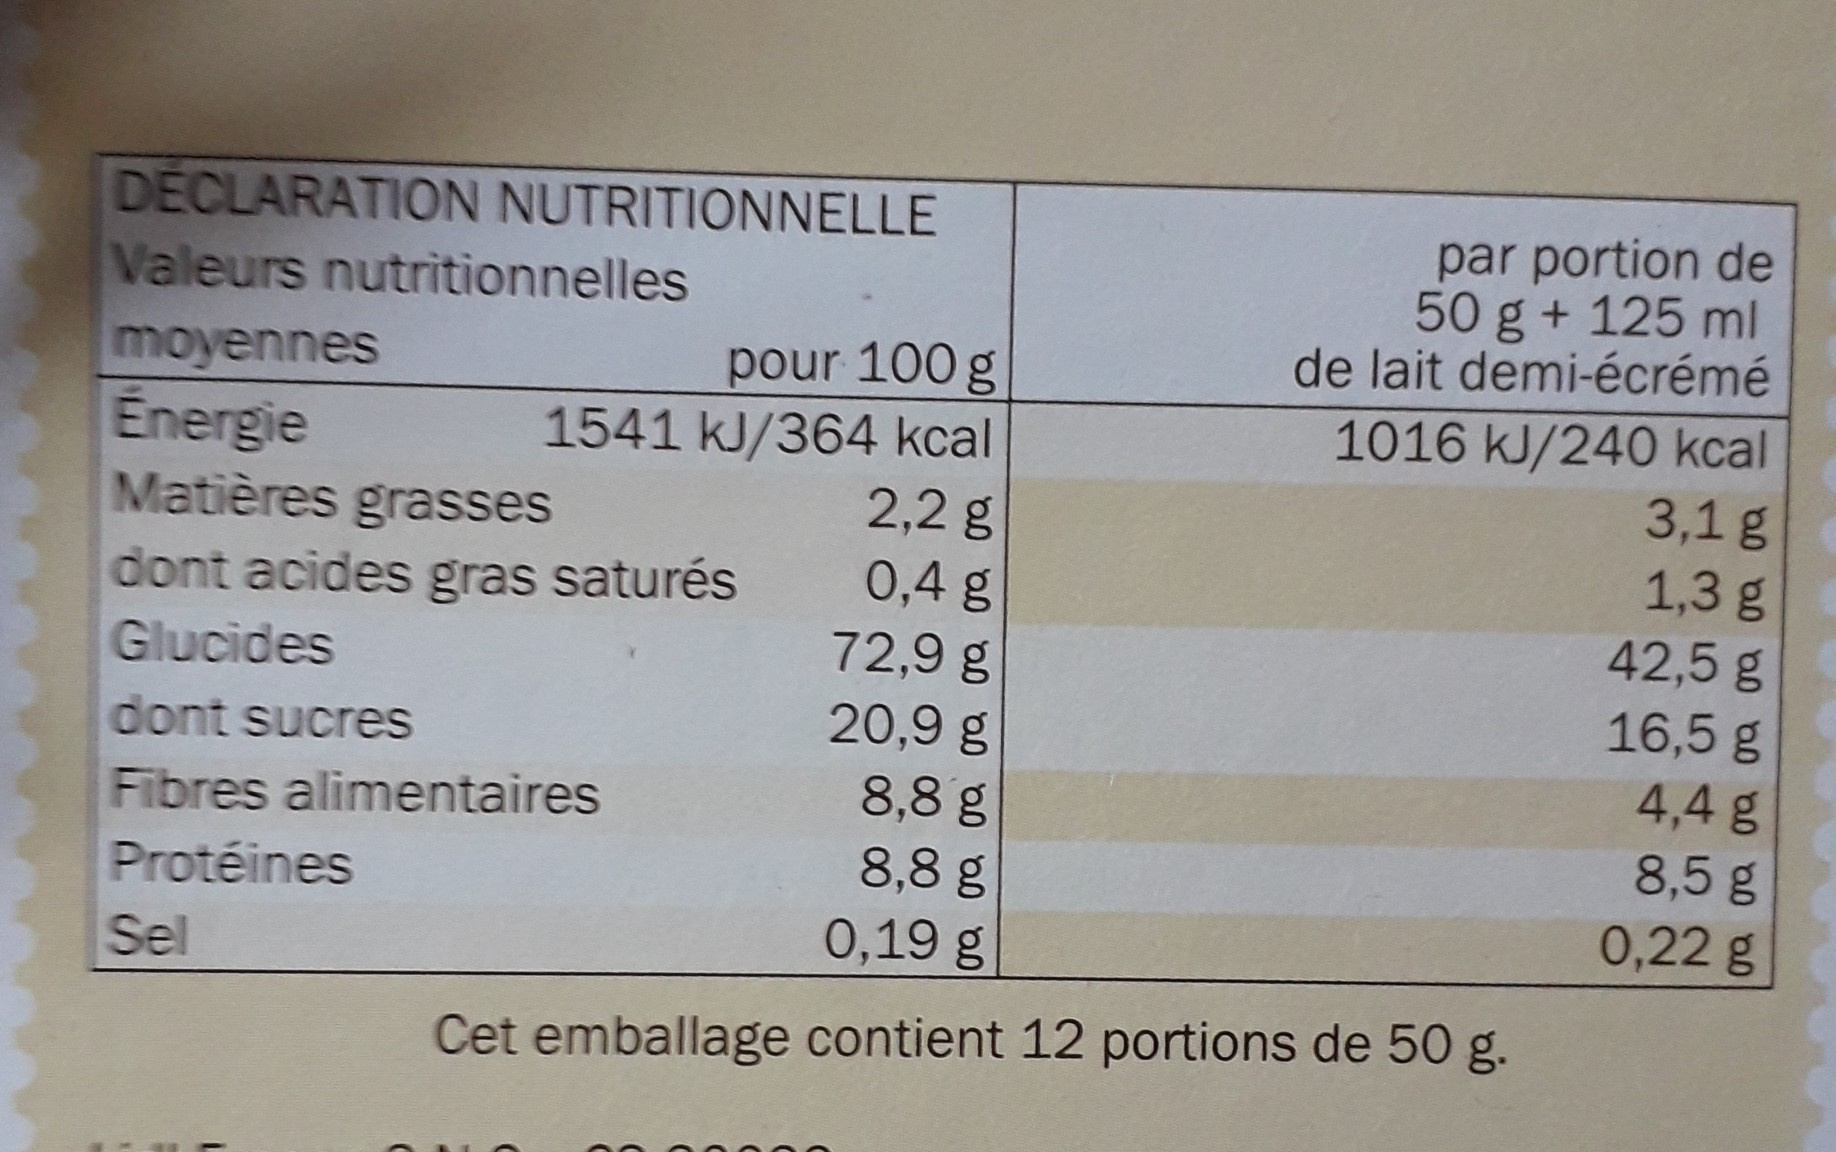column: (99, 159, 1002, 972), (1289, 194, 1771, 975)
table: (88, 146, 1790, 1002)
